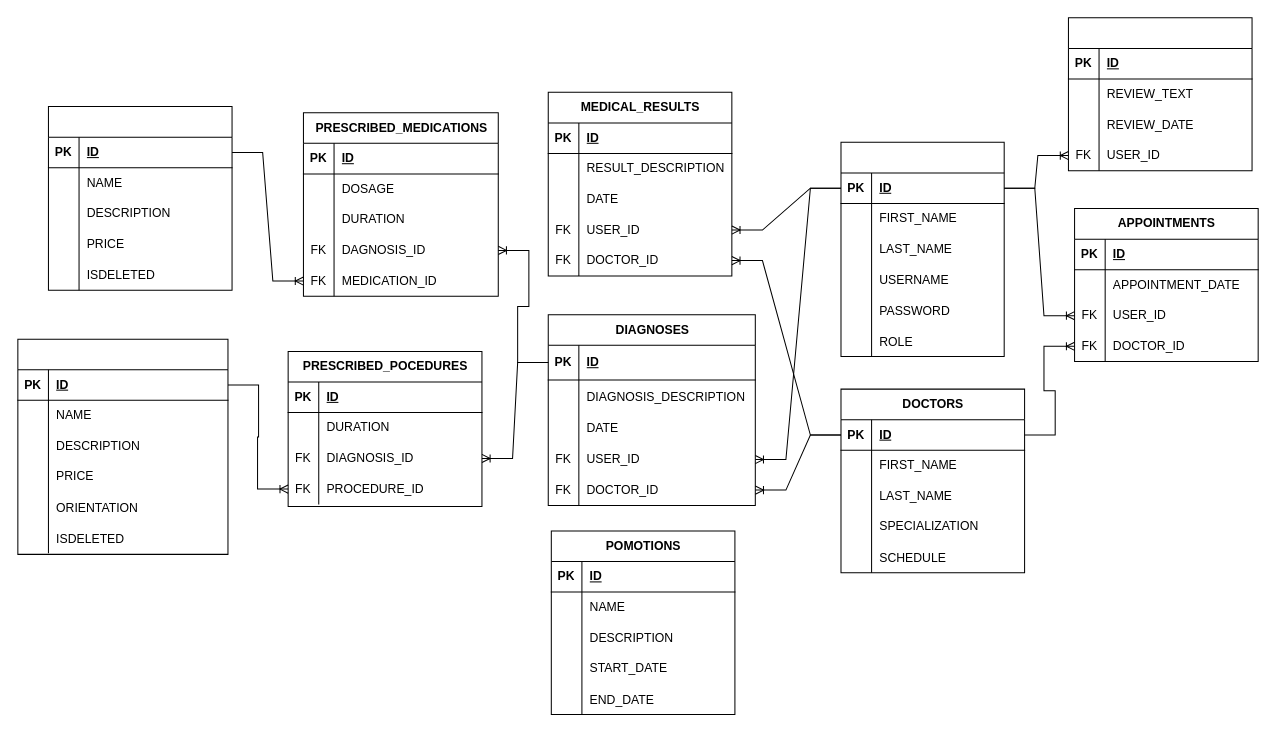
Some shapes in this 1276 by 732 pixel diagram are drawn without their labels. Each missing label, with the box of its shape:
MEDICATIONS: (47, 106, 232, 290)
REVIEWS: (1067, 17, 1252, 171)
SERVICES_AND_PROCEDURES: (17, 338, 228, 554)
USERS: (840, 141, 1004, 356)
